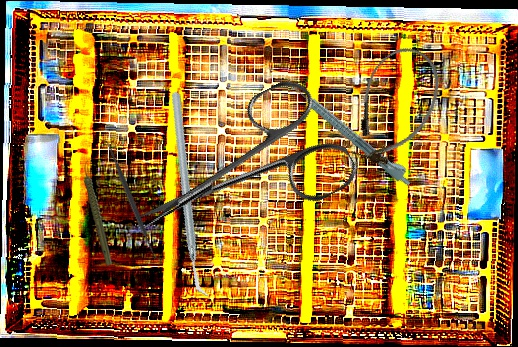Cannula: (336, 36, 454, 177)
Chopper: (117, 91, 264, 300)
Handpiece: (288, 77, 418, 189), (83, 160, 113, 266)
Iris Scissors: (110, 69, 362, 282)
Spatula Surgical: (99, 134, 162, 264)
